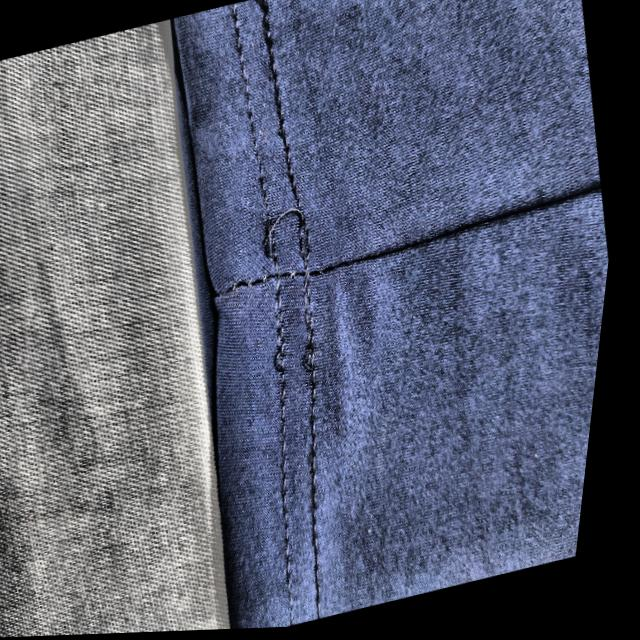Stitch: (247, 182, 358, 314), (251, 310, 373, 417)
